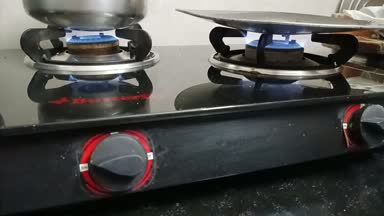flame_gas_on: (42, 23, 154, 191), (221, 27, 341, 71)
